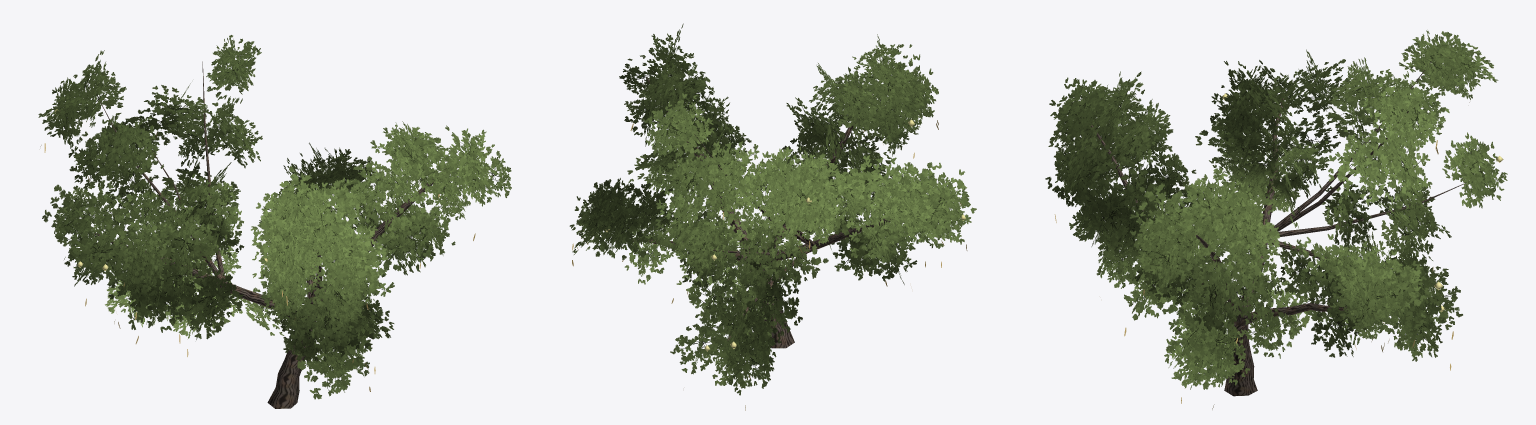
The model's file is adult-a.lod1.glb.
3 renders of one model, left to right at view 1: azimuth 30°, elevation 25°; view 2: azimuth 150°, elevation 25°; view 3: azimuth 270°, elevation 25°, orthographic. The views are drawn at different scales.
Visible parts, largest first — view 1: foliage, bark; view 2: foliage, bark; view 3: foliage, bark.
Part boxes in pixels (<box>): foliage: <box>38,35,511,399</box>; bark: <box>94,61,460,408</box>; foliage: <box>569,23,976,395</box>; bark: <box>615,77,900,348</box>; foliage: <box>1045,30,1507,389</box>; bark: <box>1091,60,1465,396</box>.
Bounding box in the file's own units: 10.34 × 7.5 × 9.78.
Materials: 4 (2 with a texture image).
